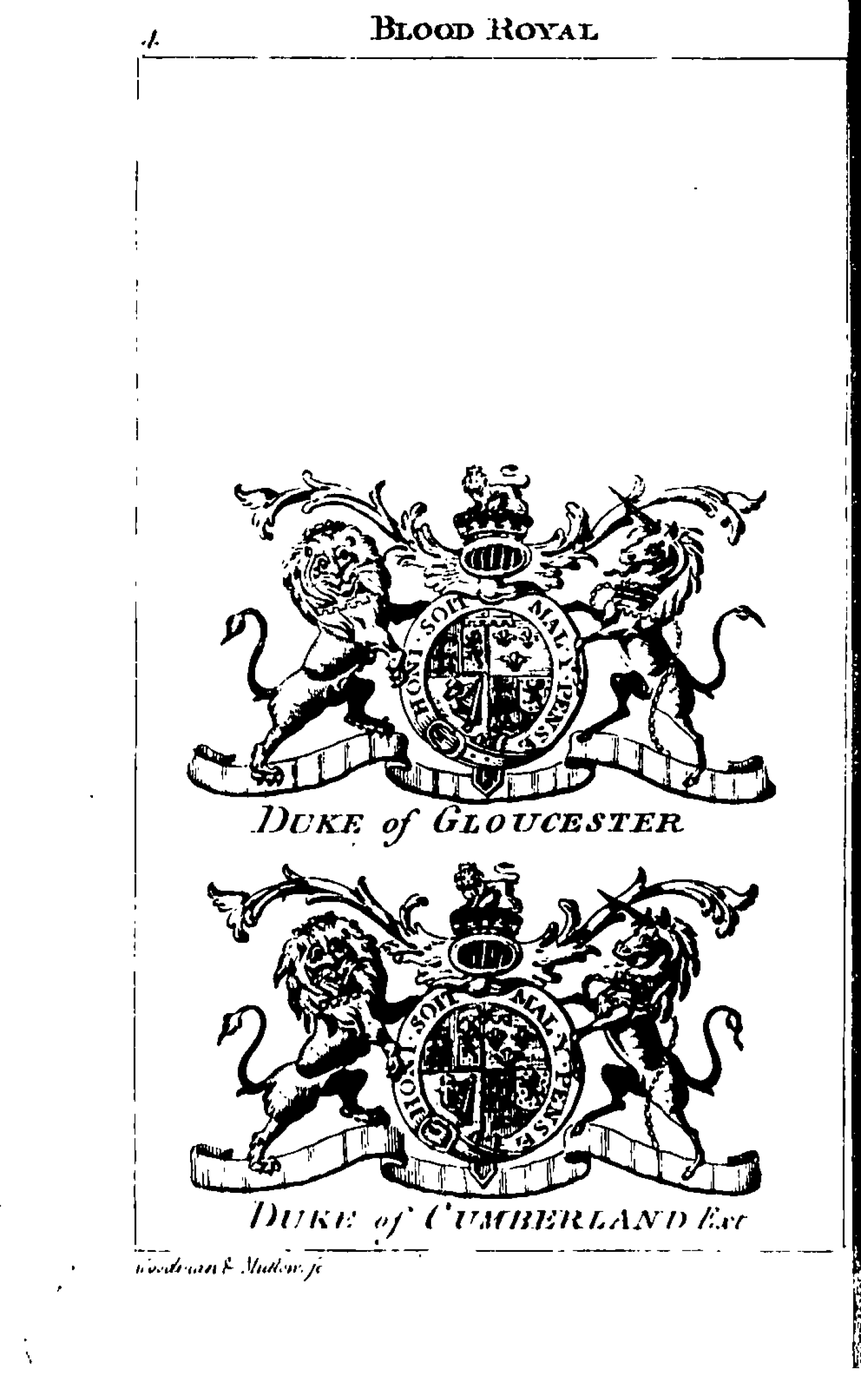coat_of_arms: (155, 438, 831, 865), (148, 840, 828, 1256)
